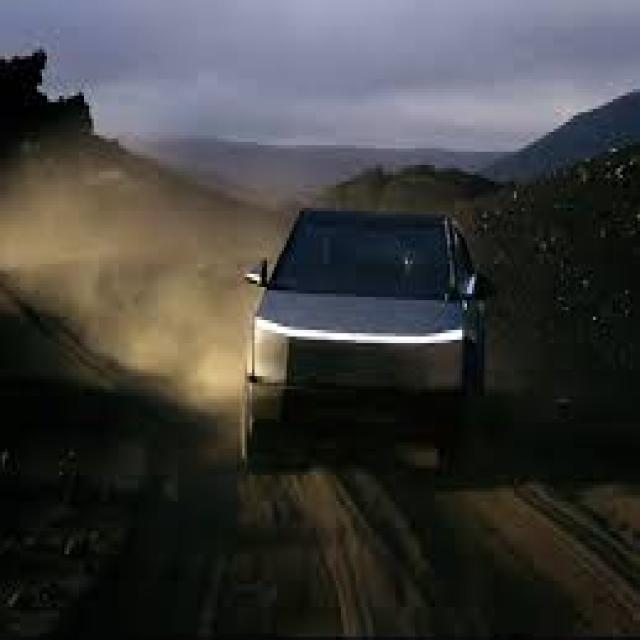CMT: (243, 207, 484, 475)
